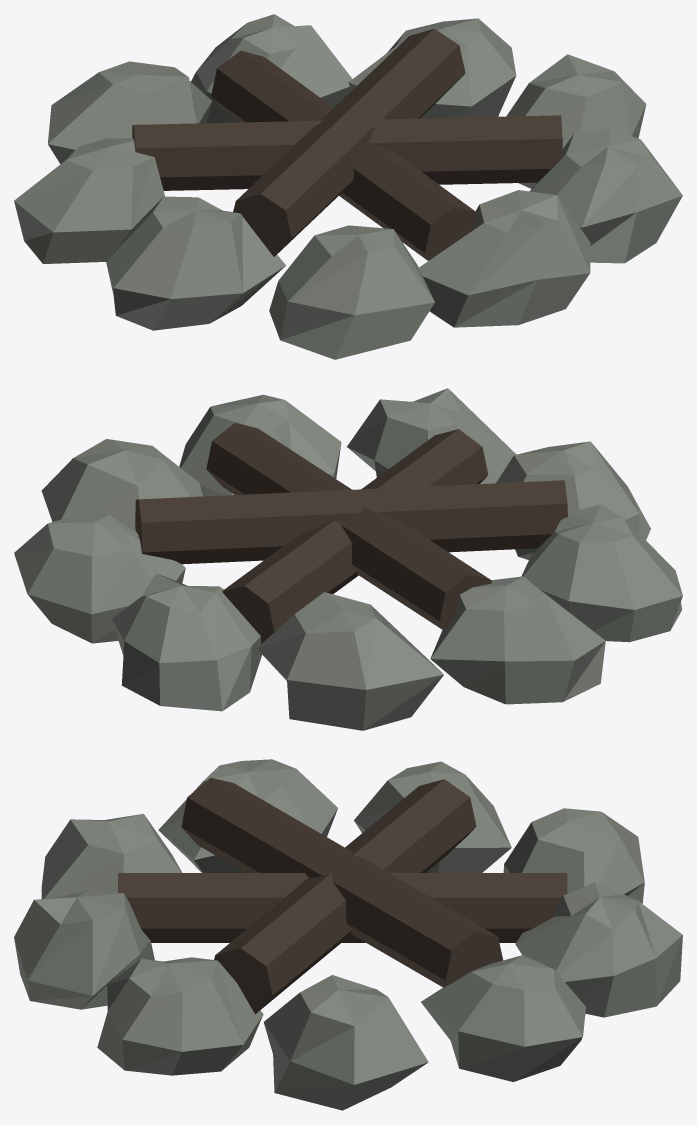
The model's file is campfire.glb.
The picture shows the model from 3 angles, top to bottom: view 1: azimuth 30°, elevation 25°; view 2: azimuth 150°, elevation 25°; view 3: azimuth 270°, elevation 25°; orthographic projection. The views are drawn at different scales.
Parts seen in each view (by area): view 1: campfire; view 2: campfire; view 3: campfire.
Part boxes in pixels (x1,y1,x2,y2): campfire: [14, 14, 682, 359]; campfire: [14, 388, 682, 730]; campfire: [14, 759, 682, 1110].
Size of the model in its own units: 1.74 by 0.3 by 1.64.
